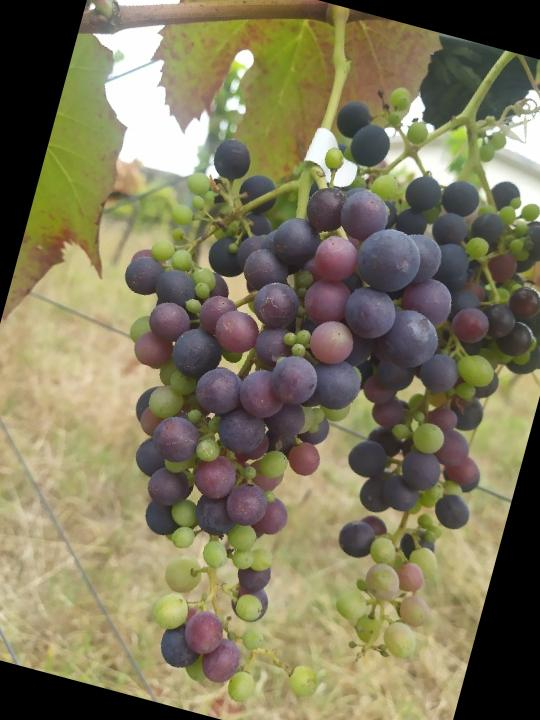grape: (21, 49, 501, 720)
